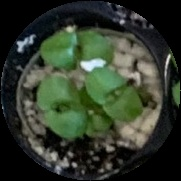Basil: (41, 76, 86, 139), (90, 66, 139, 122), (46, 31, 115, 68)
